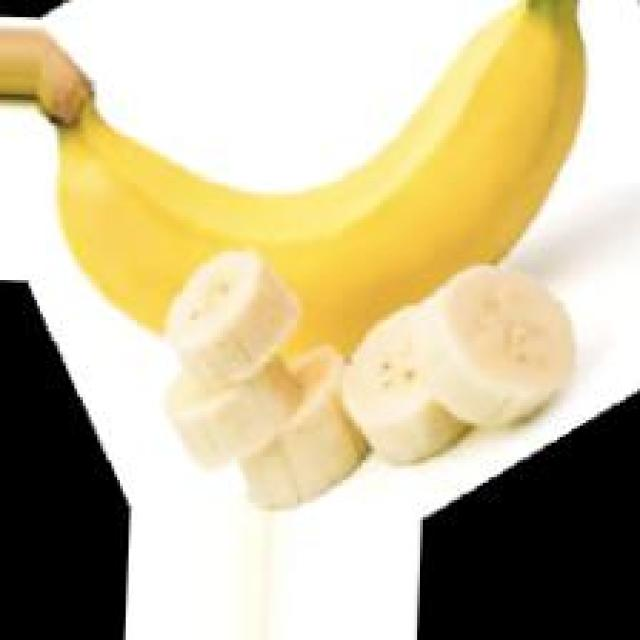banana: (41, 52, 621, 530)
